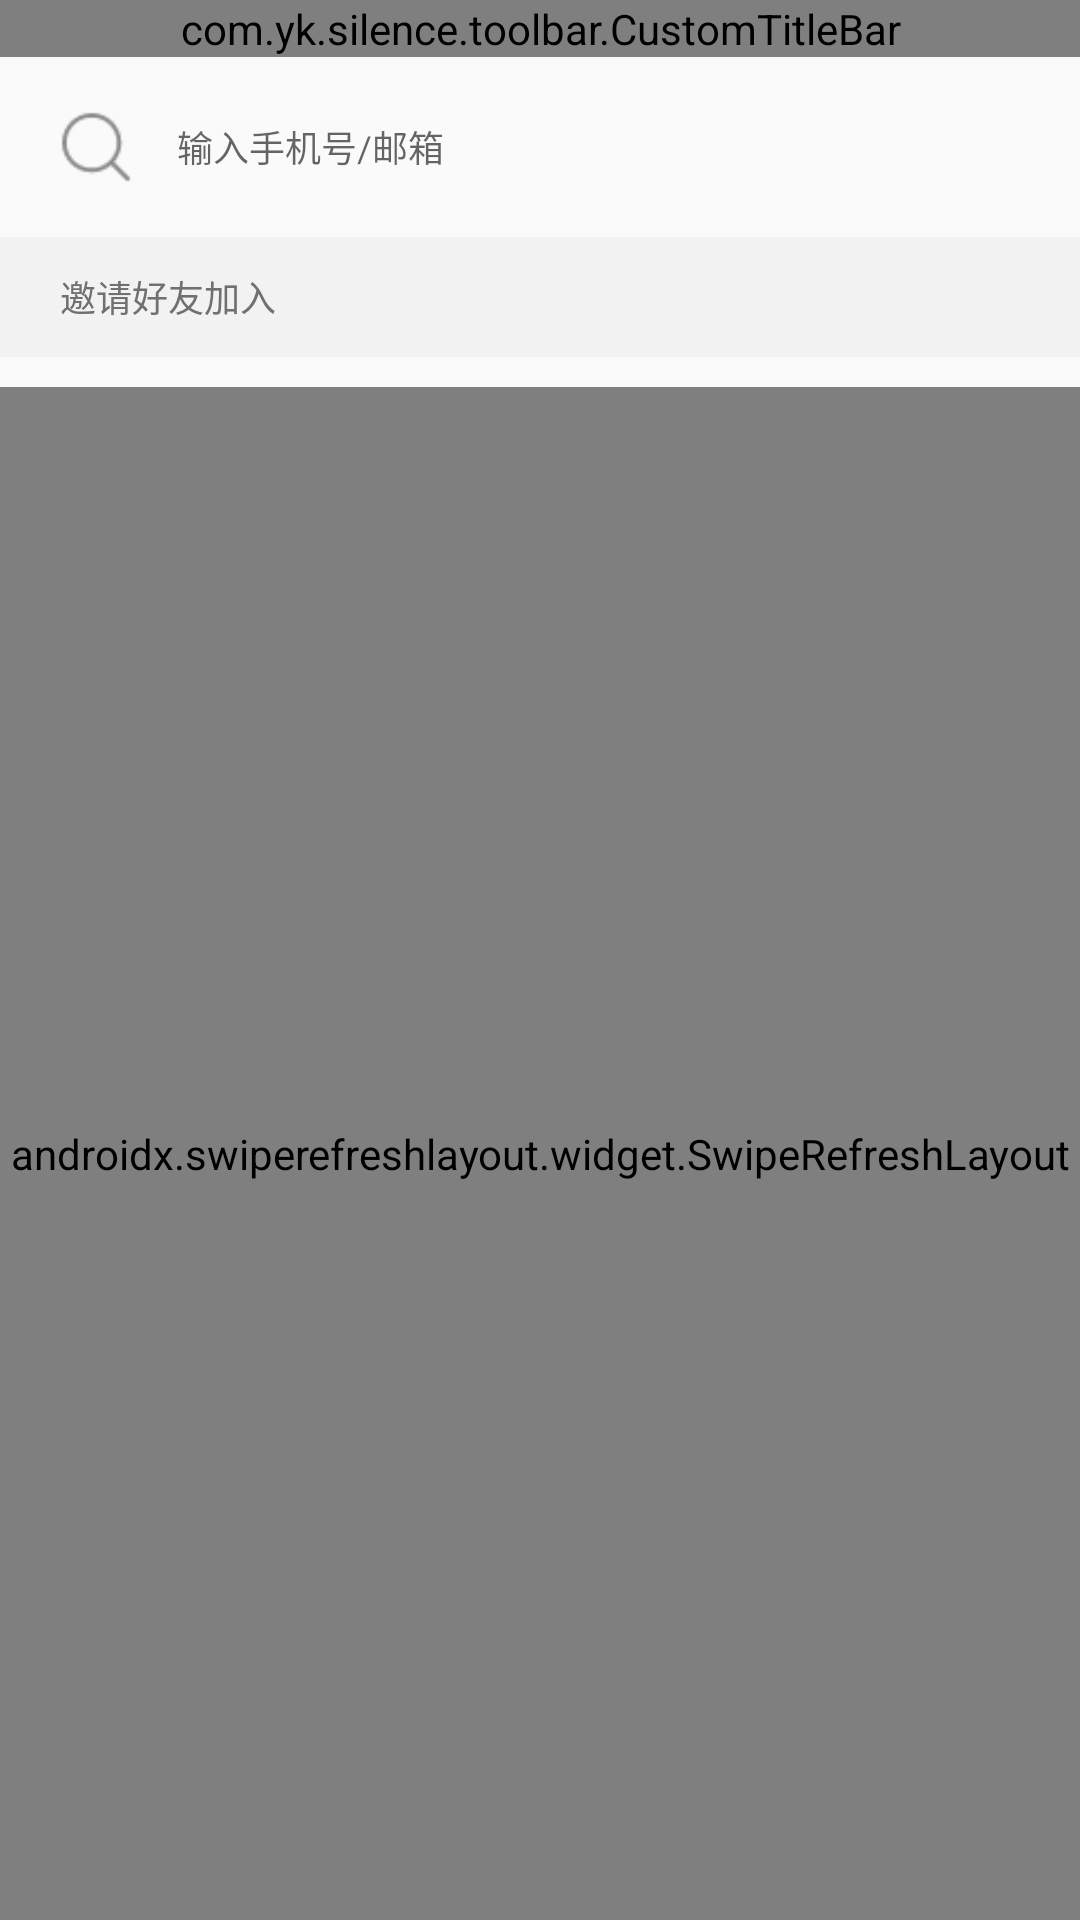

Icons on this 1080*1920 Android screen, each with its box as Rect(x1, y1, x2, y2):
search: Rect(62, 113, 130, 181)
